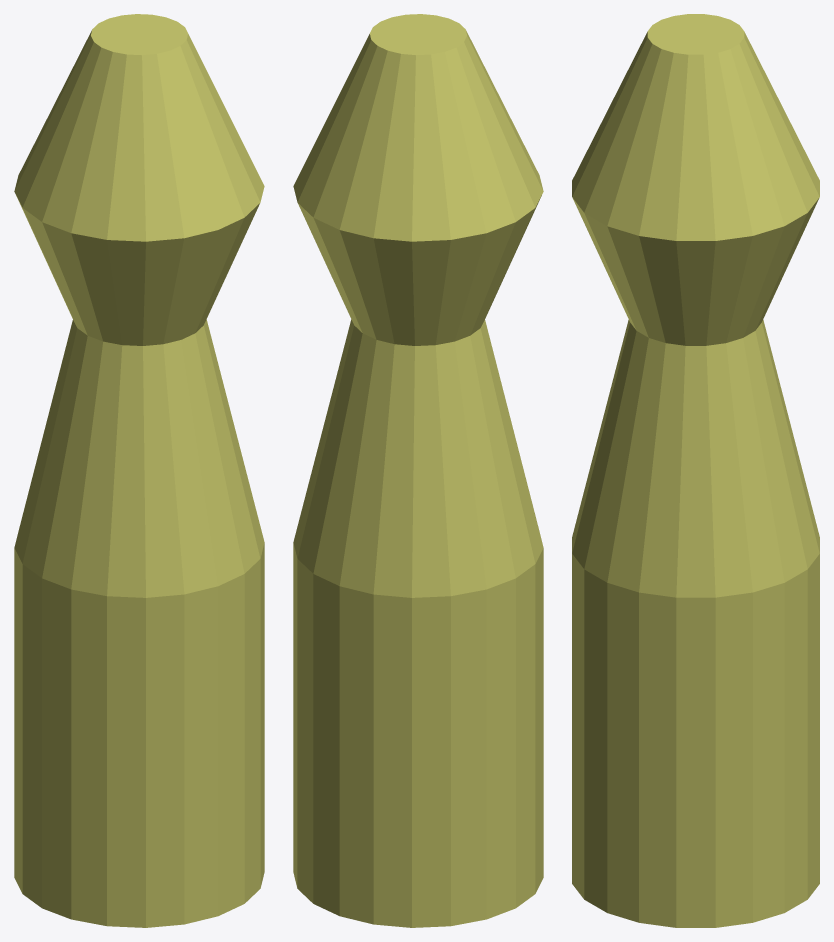
Rendered from marker.obj.
The picture shows the model from 3 angles, left to right: view 1: azimuth 30°, elevation 25°; view 2: azimuth 150°, elevation 25°; view 3: azimuth 270°, elevation 25°; orthographic projection.
Parts seen in each view (by area): view 1: Cylinder_Cylinder_Material.001; view 2: Cylinder_Cylinder_Material.001; view 3: Cylinder_Cylinder_Material.001.
Part boxes in pixels (box(x1,y1,x2,y2)): Cylinder_Cylinder_Material.001: box(14, 14, 264, 927); Cylinder_Cylinder_Material.001: box(293, 14, 543, 927); Cylinder_Cylinder_Material.001: box(572, 14, 819, 927).
Size of the model in its own units: 0.1903 by 0.7131 by 0.1903.
